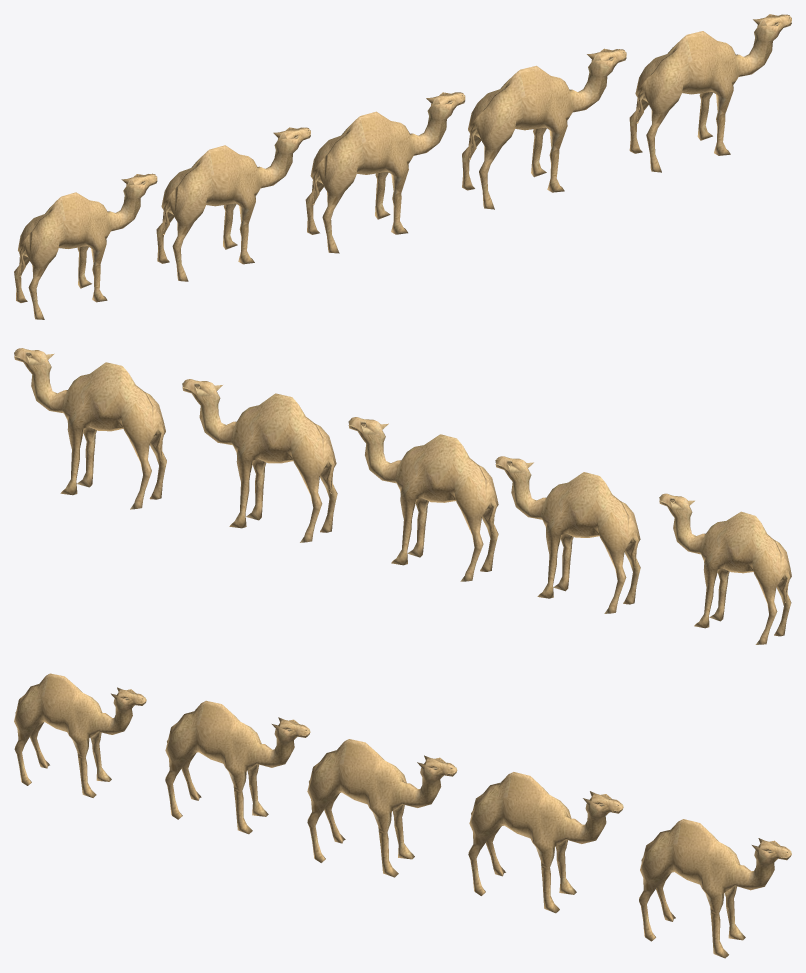
File: camel.obj
3 renders of one model, top to bottom at view 1: azimuth 30°, elevation 25°; view 2: azimuth 150°, elevation 25°; view 3: azimuth 330°, elevation 25°, orthographic.
Visible parts, largest first — view 1: camel.009, camel.008, camel.010, camel.011, camel.012; view 2: camel.009, camel.008, camel.010, camel.011, camel.012; view 3: camel.009, camel.008, camel.010, camel.011, camel.012.
Part boxes in pixels (<box>): camel.009: <box>462,48,626,209</box>; camel.008: <box>629,14,791,172</box>; camel.010: <box>305,92,465,253</box>; camel.011: <box>156,127,310,281</box>; camel.012: <box>14,173,157,319</box>; camel.009: <box>182,379,337,542</box>; camel.008: <box>14,348,166,509</box>; camel.010: <box>348,417,498,581</box>; camel.011: <box>495,456,640,613</box>; camel.012: <box>659,493,791,644</box>; camel.009: <box>468,772,623,913</box>; camel.008: <box>639,819,791,958</box>; camel.010: <box>307,739,457,877</box>; camel.011: <box>165,700,310,834</box>; camel.012: <box>14,673,146,797</box>.
Size of the model in its own units: 124 by 20.94 by 10.25.
Materials: 1 (1 with a texture image).
